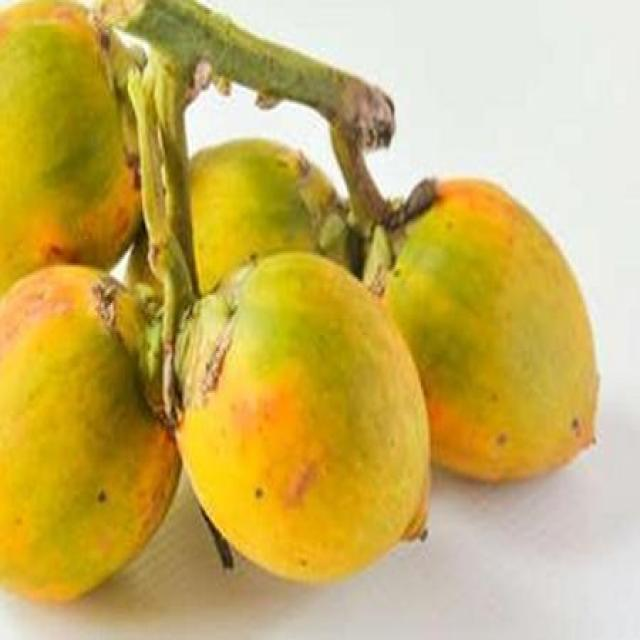good: (174, 251, 431, 586), (381, 179, 602, 486), (0, 265, 182, 608), (0, 0, 142, 301)
